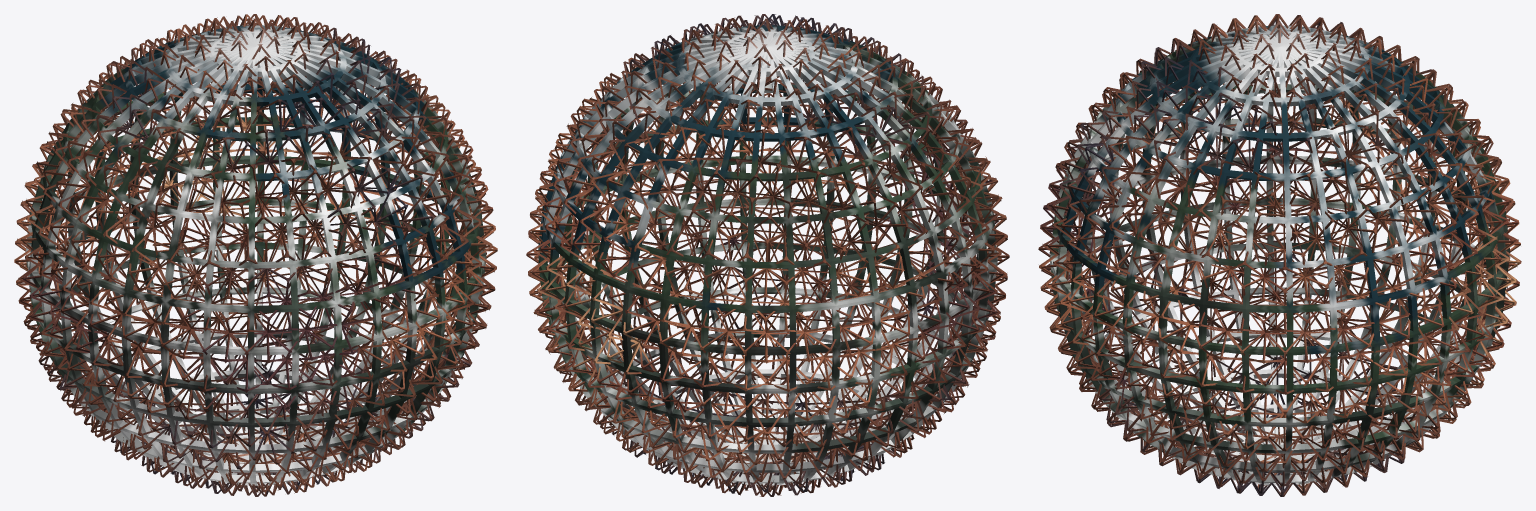
Rendered from ball.glb.
3 views of the same model, side by side, from view 1: azimuth 30°, elevation 25°; view 2: azimuth 150°, elevation 25°; view 3: azimuth 270°, elevation 25° (orthographic).
Visible parts, largest first — view 1: Sphere001, GeoSphere001; view 2: Sphere001, GeoSphere001; view 3: Sphere001, GeoSphere001.
Boxes of the visible parts, x1,y1,x2,y2 form: Sphere001: [25, 25, 486, 485]; GeoSphere001: [14, 14, 497, 496]; Sphere001: [538, 25, 997, 485]; GeoSphere001: [526, 14, 1009, 496]; Sphere001: [1050, 25, 1509, 485]; GeoSphere001: [1038, 14, 1521, 496].
Bounding box in the file's own units: 131 × 131 × 131.
2 materials, 2 textured.
